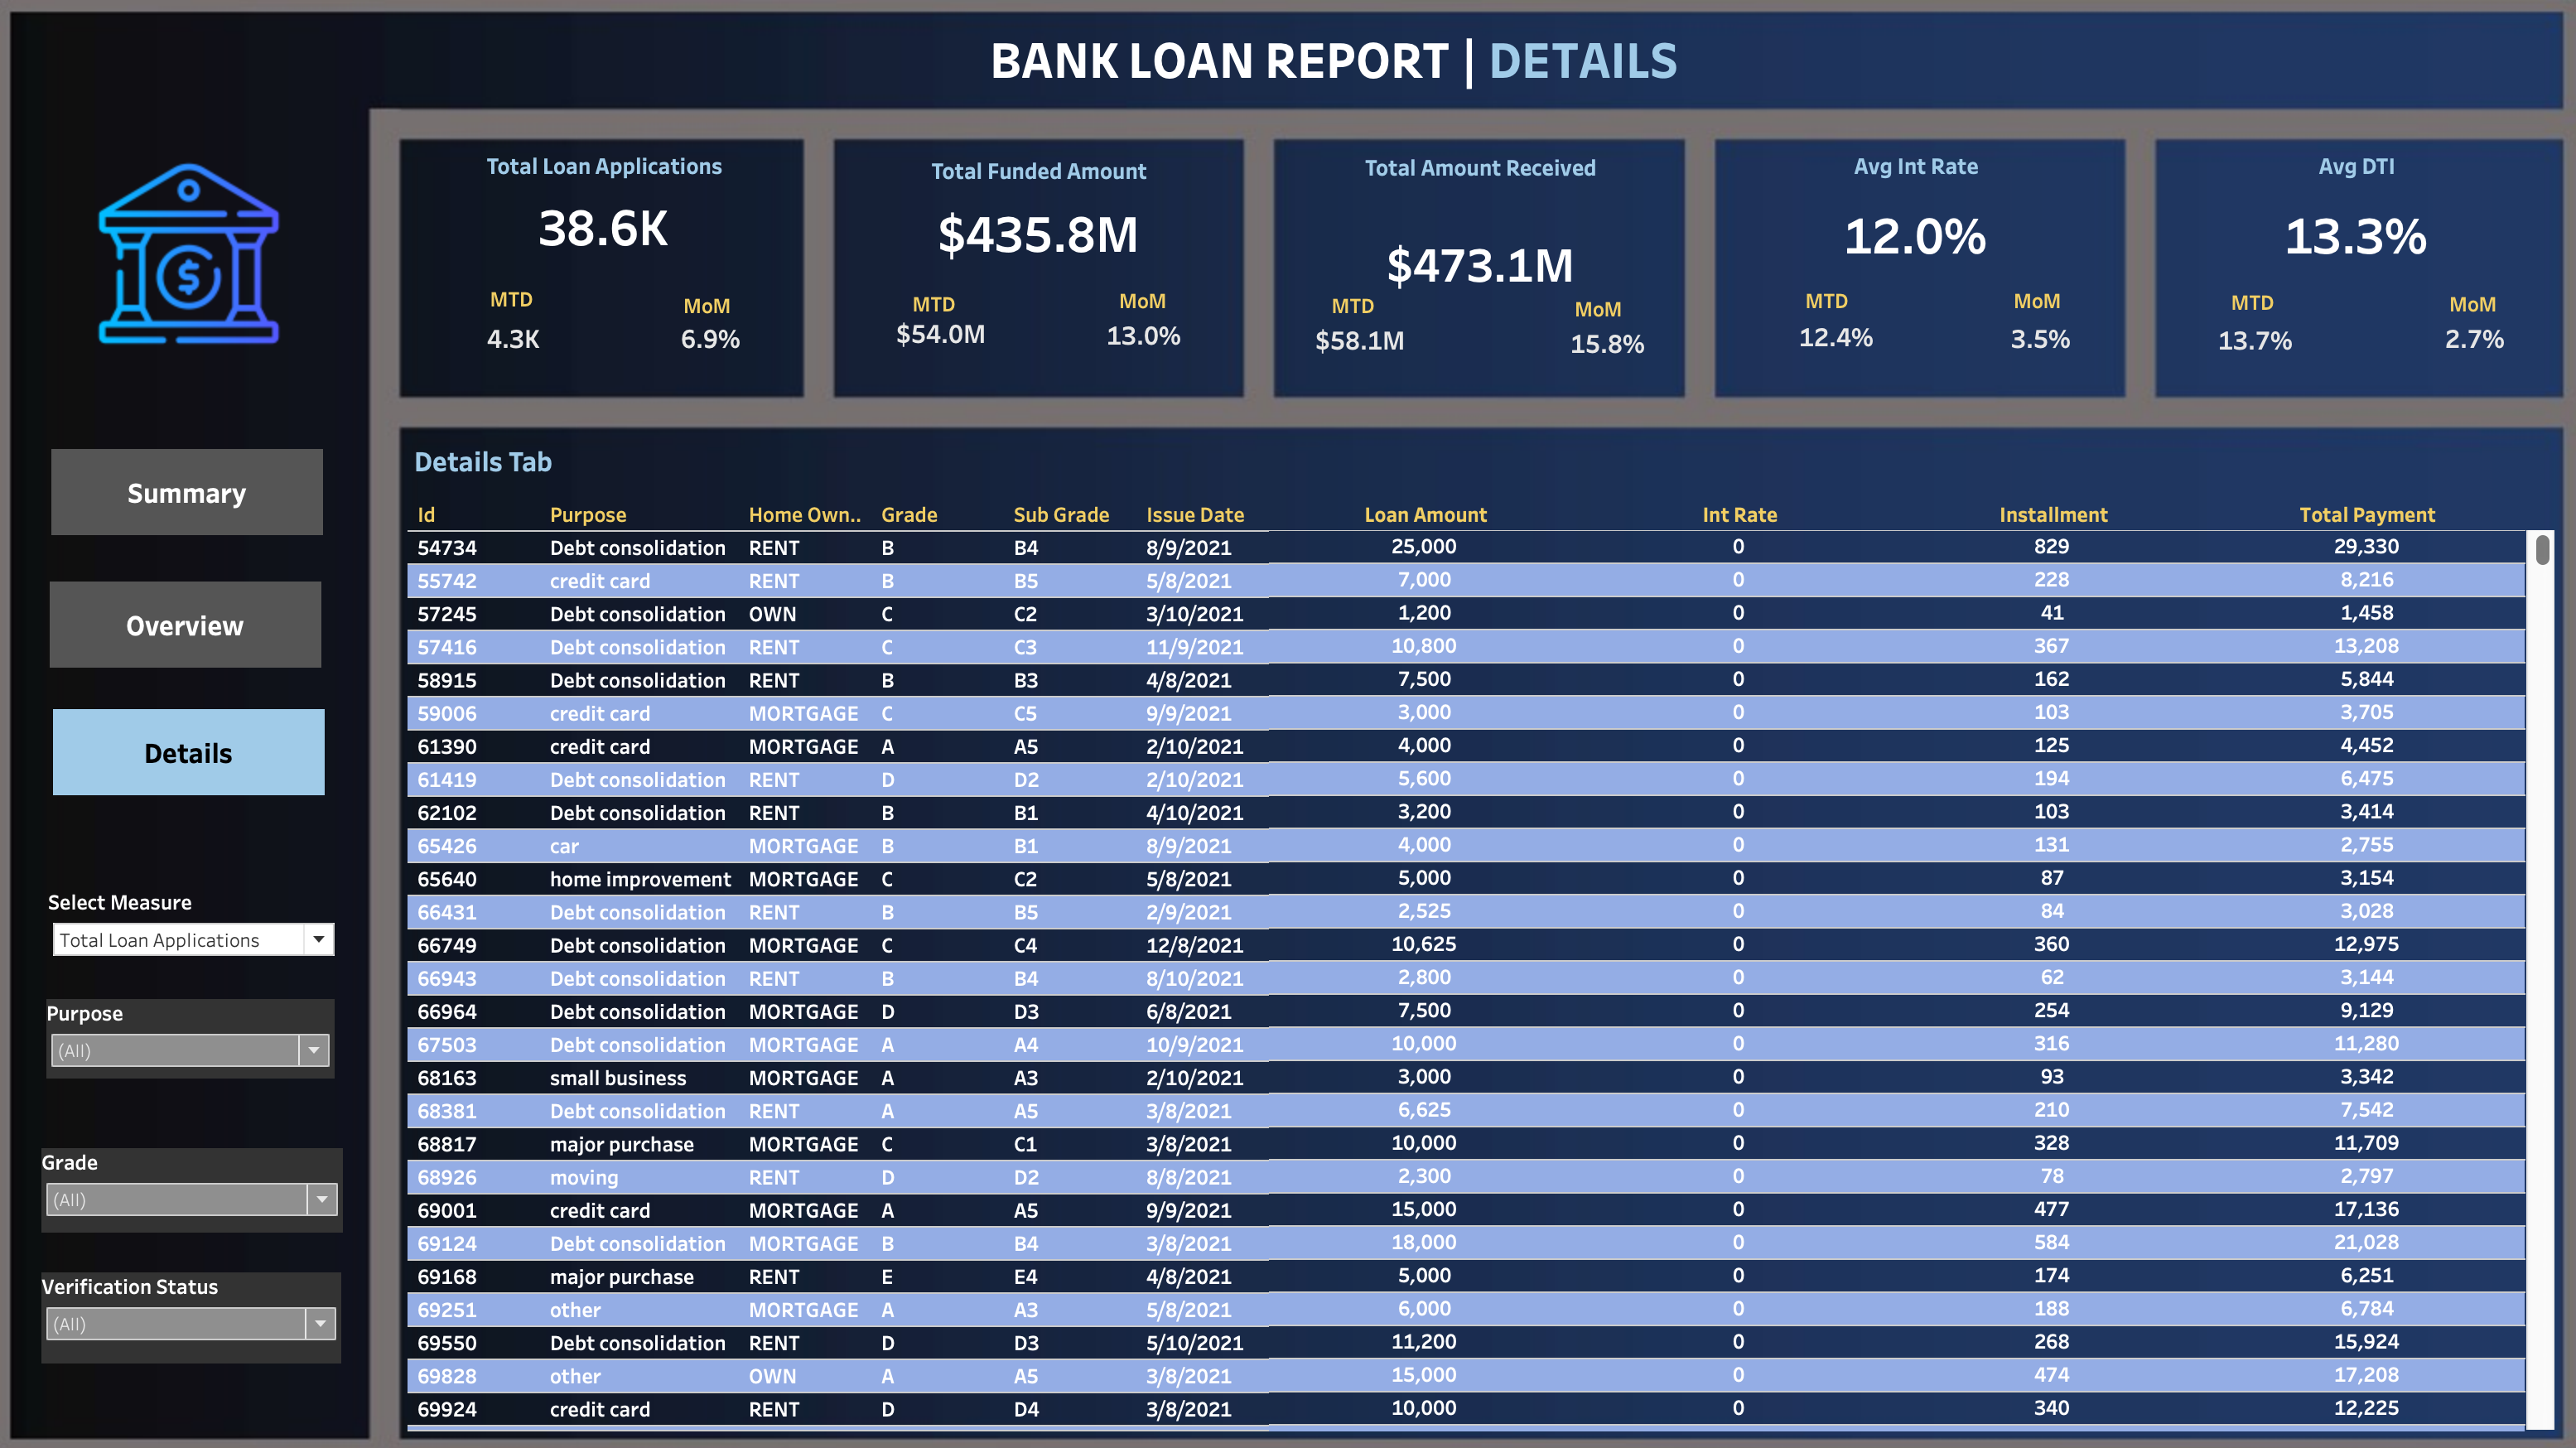

Layout of this report page (visuals, bound fields, positions):
{"tool":"tableau","page":{"name":"DETAILS","canvas":[1600,900],"ordinal":0},"visuals":[{"type":"image","param":"/Users/akhilnashaboina/Documents/Bank Loan Project/Tableau Background 3.jpg","box":[8,8,1584,884]},{"type":"text","box":[617,27,474,40]},{"type":"worksheet","title":"Total Loan Applications","mark":"Automatic","box":[268,99,238,67]},{"type":"worksheet","title":"Avg Int Rate","mark":"Automatic","box":[1060,99,238,76]},{"type":"worksheet","title":"Avg DTI","mark":"Automatic","box":[1327,99,236,76]},{"type":"worksheet","title":"Total Amount Received","mark":"Automatic","box":[797,100,238,94]},{"type":"worksheet","title":"Total Funded Amount","mark":"Automatic","box":[531,102,237,68]},{"type":"image","param":"/var/folders/p4/2l67zrp17b7ft3rqsyjzx5cr0000gn/T/tableau-temp/0e35jhp16tpgta1fqs","box":[64,103,144,124]},{"type":"text","box":[301,177,60,30]},{"type":"text","box":[1095,178,60,30]},{"type":"text","box":[1352,179,60,30]},{"type":"text","box":[556,180,60,30]},{"type":"text","box":[685,180,54,27]},{"type":"text","box":[1225,180,54,27]},{"type":"text","box":[809,181,60,30]},{"type":"text","box":[1488,182,54,27]},{"type":"text","box":[422,183,54,27]},{"type":"text","box":[960,185,54,27]},{"type":"worksheet","title":"MTD Total Funded Amount","mark":"Automatic","box":[553,193,76,42]},{"type":"worksheet","title":"MoM Total Funded Amount","mark":"Automatic","box":[678,193,69,44]},{"type":"worksheet","title":"MTD Avg Int Rate","mark":"Automatic","box":[1099,196,64,39]},{"type":"worksheet","title":"MTD Total Loan Applications","mark":"Automatic","box":[299,197,67,39]},{"type":"worksheet","title":"MTD Avg DTI","mark":"Automatic","box":[1356,197,56,42]},{"type":"worksheet","title":"MoM Avg Int Rate","mark":"Automatic","box":[1220,198,68,37]},{"type":"worksheet","title":"MTD Total Amount Received","mark":"Automatic","box":[808,199,71,37]},{"type":"worksheet","title":"MoM Total Amount Received","mark":"Automatic","box":[955,200,76,39]},{"type":"worksheet","title":"MoM Avg DTI","mark":"Automatic","box":[1488,200,57,34]},{"type":"worksheet","title":"MoM Loan Applications","mark":"Automatic","box":[427,202,49,29]},{"type":"worksheet","title":"Details Tab","mark":"Automatic","rows":["id","purpose","home_ownership","grade","sub_grade","issue_date"],"box":[268,275,1296,601]},{"type":"dashboard-object","box":[53,283,164,52]},{"type":"dashboard-object","box":[52,363,164,52]},{"type":"dashboard-object","box":[54,440,164,52]},{"type":"parameter","param":"[Parameters].[Parameter 1]","box":[51,548,176,44]},{"type":"filter","title":"Avg DTI","param":"[federated.0kf2hzg1sb7jsc10xx9gb1ky2994].[none:purpose:nk]","box":[50,615,174,48]},{"type":"filter","title":"Avg DTI","param":"[federated.0kf2hzg1sb7jsc10xx9gb1ky2994].[none:grade:nk]","box":[47,705,182,51]},{"type":"filter","title":"Avg DTI","param":"[federated.0kf2hzg1sb7jsc10xx9gb1ky2994].[none:verification_status:nk]","box":[47,780,181,55]}]}

Visuals, with their boxes in screenshot pixels (x1, y1, x2, y2), scaled from the page's 1600x900 canvas onto the 2576x1448 screenshot:
image: select_region(13, 13, 2563, 1435)
text: select_region(993, 43, 1757, 108)
"Total Loan Applications" worksheet: select_region(432, 159, 815, 267)
"Avg Int Rate" worksheet: select_region(1706, 159, 2090, 282)
"Avg DTI" worksheet: select_region(2136, 159, 2516, 282)
"Total Amount Received" worksheet: select_region(1283, 161, 1667, 312)
"Total Funded Amount" worksheet: select_region(855, 164, 1237, 273)
image: select_region(103, 166, 335, 365)
text: select_region(485, 285, 581, 333)
text: select_region(1763, 287, 1860, 335)
text: select_region(2177, 288, 2274, 336)
text: select_region(895, 290, 991, 338)
text: select_region(1102, 290, 1189, 333)
text: select_region(1972, 290, 2059, 333)
text: select_region(1302, 292, 1399, 340)
text: select_region(2395, 292, 2482, 336)
text: select_region(679, 294, 766, 338)
text: select_region(1546, 297, 1633, 341)
"MTD Total Funded Amount" worksheet: select_region(890, 311, 1013, 378)
"MoM Total Funded Amount" worksheet: select_region(1092, 311, 1203, 381)
"MTD Avg Int Rate" worksheet: select_region(1769, 316, 1873, 378)
"MTD Total Loan Applications" worksheet: select_region(481, 317, 589, 379)
"MTD Avg DTI" worksheet: select_region(2183, 317, 2274, 384)
"MoM Avg Int Rate" worksheet: select_region(1964, 319, 2074, 378)
"MTD Total Amount Received" worksheet: select_region(1301, 321, 1416, 379)
"MoM Total Amount Received" worksheet: select_region(1537, 321, 1660, 384)
"MoM Avg DTI" worksheet: select_region(2395, 321, 2487, 376)
"MoM Loan Applications" worksheet: select_region(687, 325, 766, 372)
"Details Tab" worksheet: select_region(432, 442, 2518, 1409)
dashboard-object: select_region(85, 456, 350, 539)
dashboard-object: select_region(84, 584, 348, 668)
dashboard-object: select_region(87, 708, 351, 792)
parameter: select_region(82, 881, 365, 953)
"Avg DTI" filter: select_region(80, 989, 360, 1067)
"Avg DTI" filter: select_region(75, 1134, 369, 1216)
"Avg DTI" filter: select_region(75, 1255, 367, 1344)
